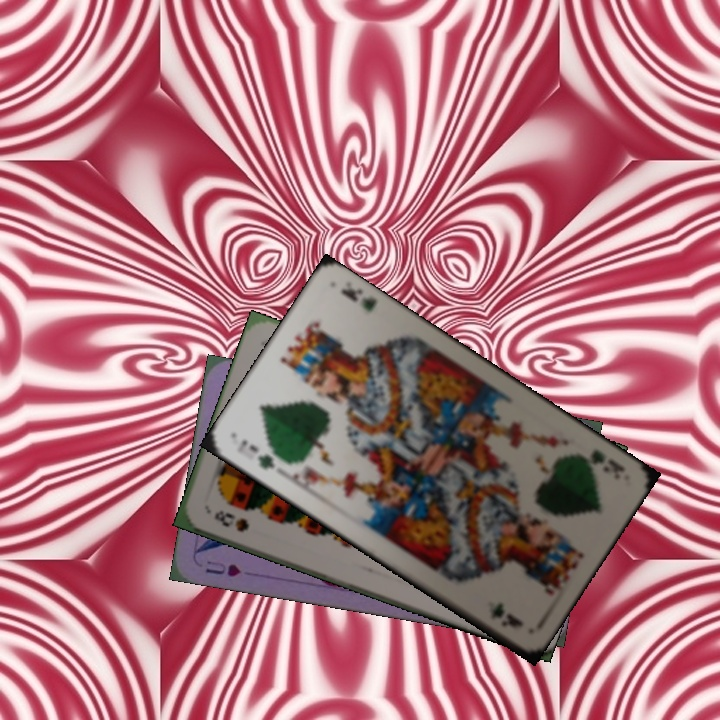GK: (233, 435, 278, 472), (586, 445, 628, 475)
HU: (201, 556, 244, 580)
S8: (210, 506, 252, 535)
